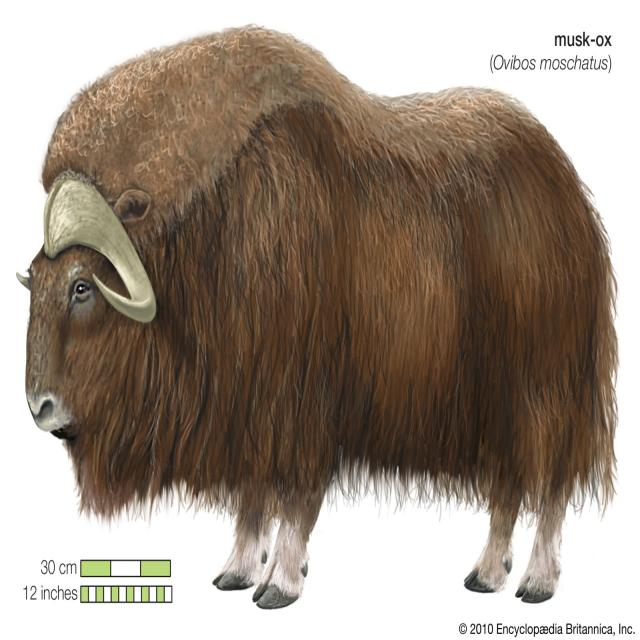Ox: (12, 29, 624, 618)
